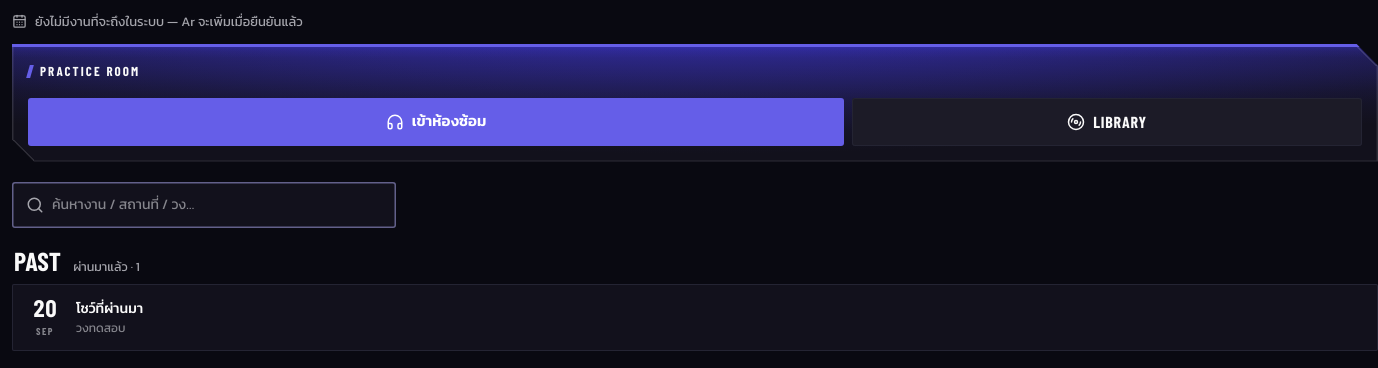
EventsList — between shows › not while searching — the list is the answer then
In the search field with placeholder "ค้นหางาน / สถานที่ / วง…": {"x": 204, "y": 204} [12, 182, 396, 228], type "โชว์"
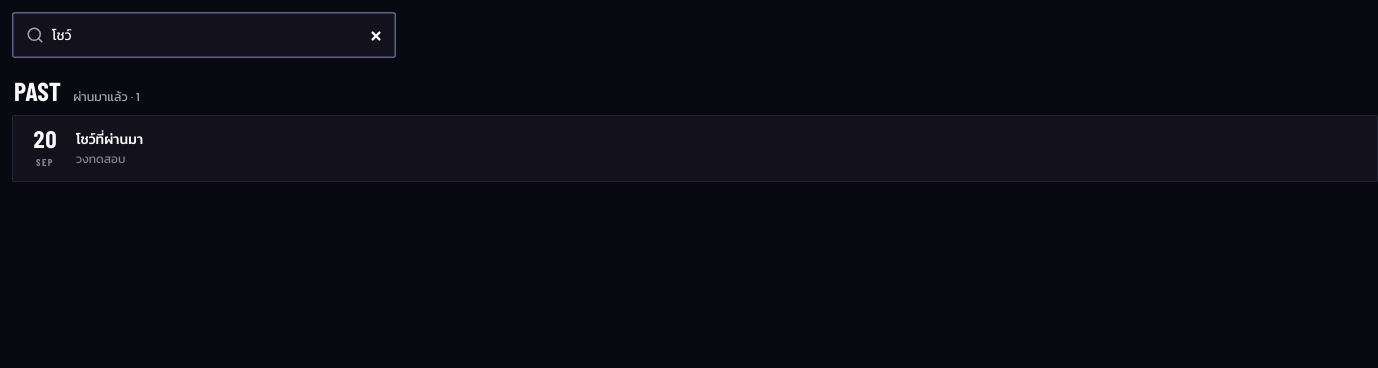
expect the element with test id "no-next-show" is gone: met
